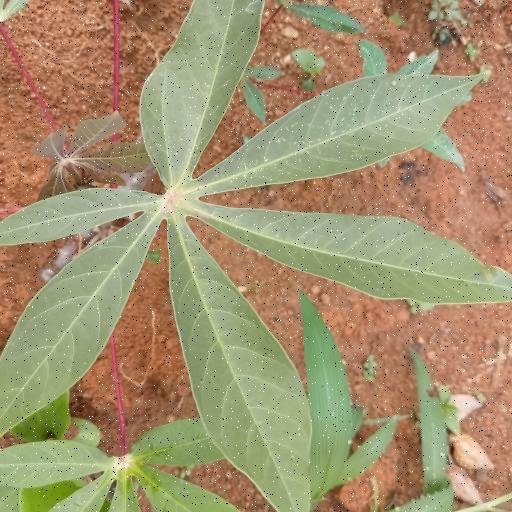Cassava_Mosaic: (16, 3, 481, 467)
